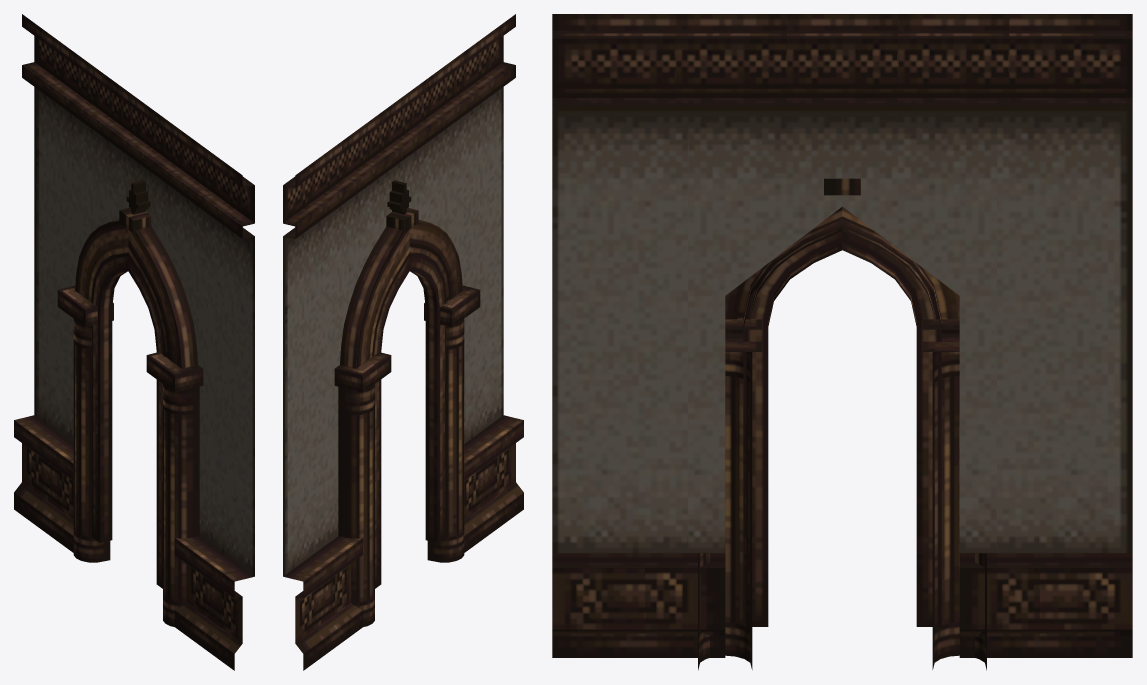
The model's file is EnvBdgMD_Church_Sea_A_Indoor_A_RoomEnter.FBX.
3 views of the same model, side by side, from view 1: azimuth 30°, elevation 25°; view 2: azimuth 150°, elevation 25°; view 3: azimuth 270°, elevation 25° (orthographic). The views are drawn at different scales.
Parts seen in each view (by area): view 1: EnvBdgMD_Church_Sea_A_Indoor_A_RoomEnter; view 2: EnvBdgMD_Church_Sea_A_Indoor_A_RoomEnter; view 3: EnvBdgMD_Church_Sea_A_Indoor_A_RoomEnter.
Part boxes in pixels (left/top/right/bottom): EnvBdgMD_Church_Sea_A_Indoor_A_RoomEnter: left=14, top=14, right=254, bottom=670; EnvBdgMD_Church_Sea_A_Indoor_A_RoomEnter: left=283, top=14, right=523, bottom=670; EnvBdgMD_Church_Sea_A_Indoor_A_RoomEnter: left=552, top=14, right=1132, bottom=670.
Bounding box in the file's own units: 35 × 580 × 470.
